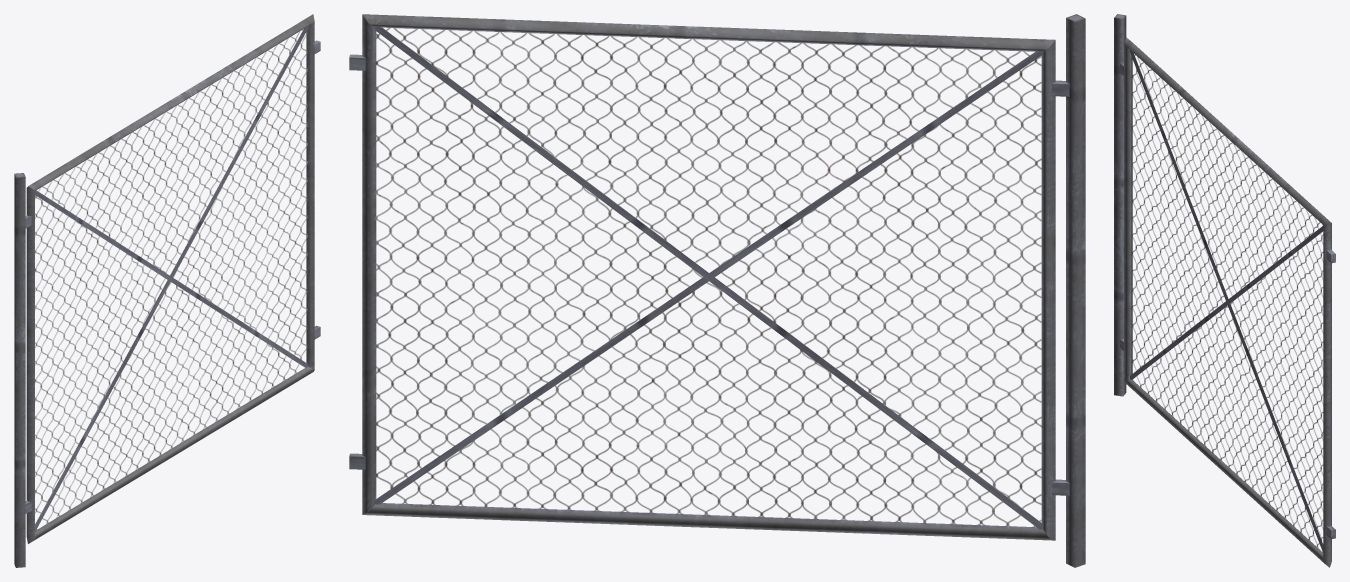
File: WireFence.glb
3 views of the same model, side by side, from view 1: azimuth 30°, elevation 25°; view 2: azimuth 150°, elevation 25°; view 3: azimuth 270°, elevation 25° (orthographic). The views are drawn at different scales.
Parts seen in each view (by area): view 1: DP_TNR_WireFence_1_DP_TNR_WireFence_1_0; view 2: DP_TNR_WireFence_1_DP_TNR_WireFence_1_0; view 3: DP_TNR_WireFence_1_DP_TNR_WireFence_1_0.
Boxes of the visible parts, x1,y1,x2,y2 form: DP_TNR_WireFence_1_DP_TNR_WireFence_1_0: (14, 14, 320, 567); DP_TNR_WireFence_1_DP_TNR_WireFence_1_0: (349, 14, 1085, 567); DP_TNR_WireFence_1_DP_TNR_WireFence_1_0: (1114, 14, 1335, 567).
Size of the model in its own units: 2.22 by 1.99 by 1.06.
Materials: 1 (1 with a texture image).
